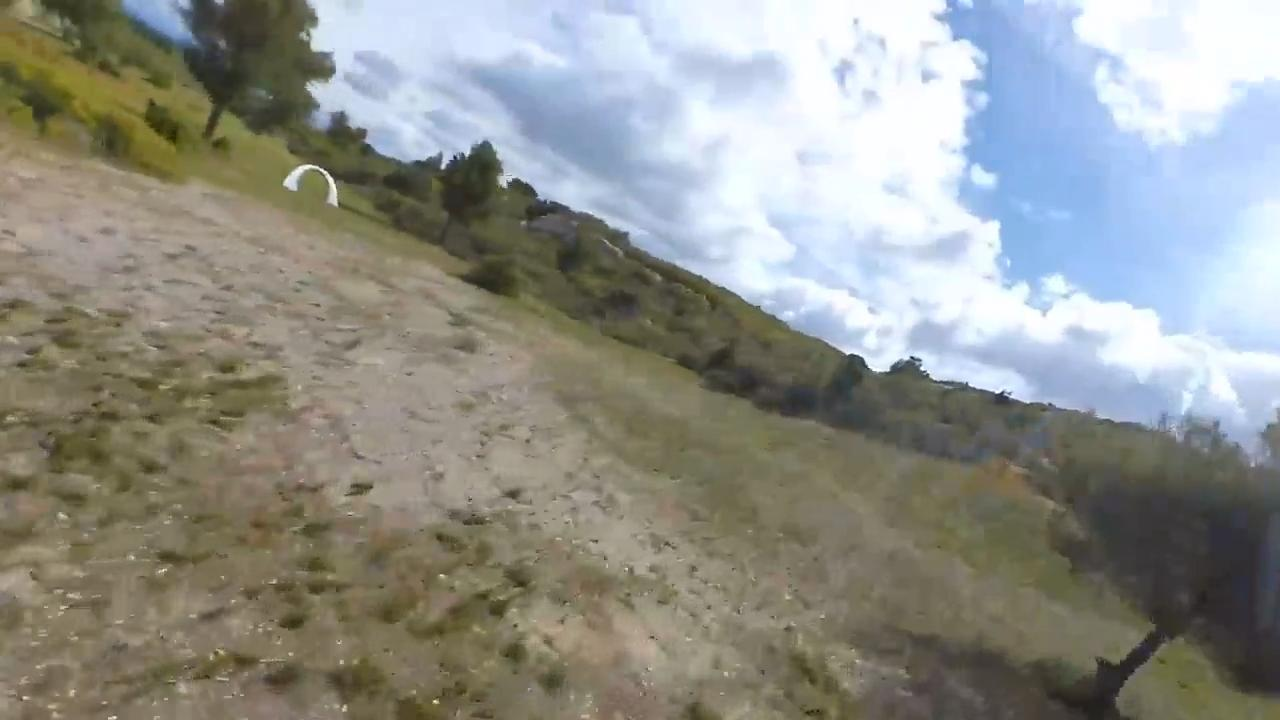gate: (282, 161, 339, 209)
